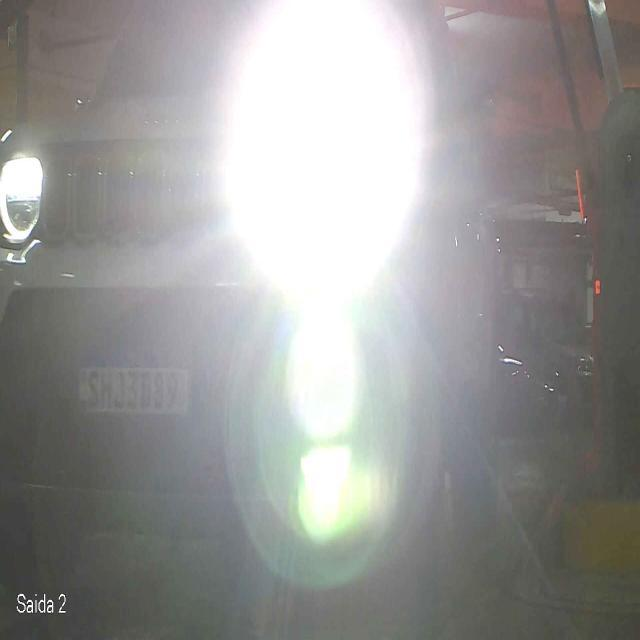mercosul_plate: (66, 353, 201, 425)
